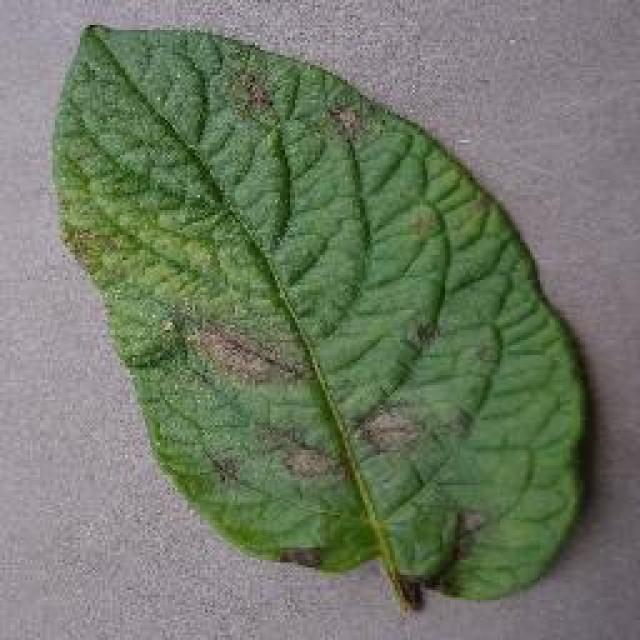late_blight: (45, 18, 595, 610)
